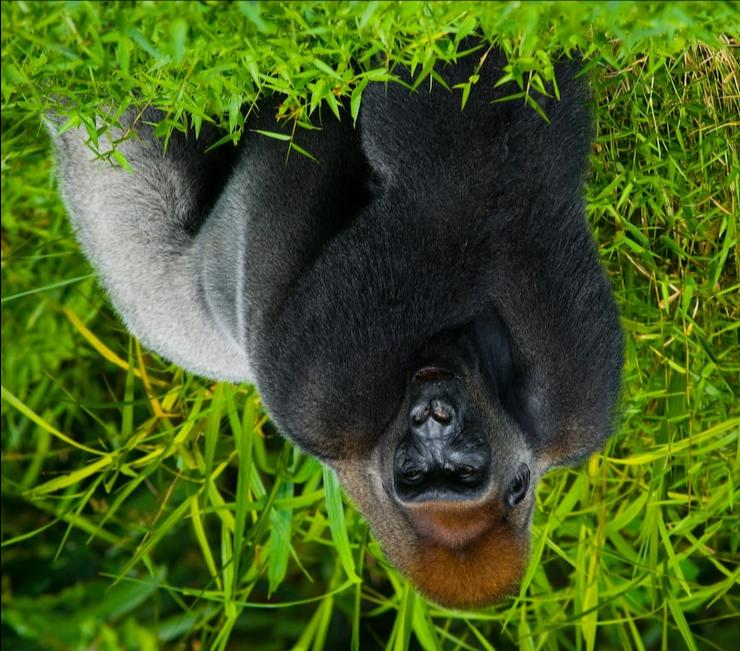gorille_Autres: (31, 13, 634, 651)
